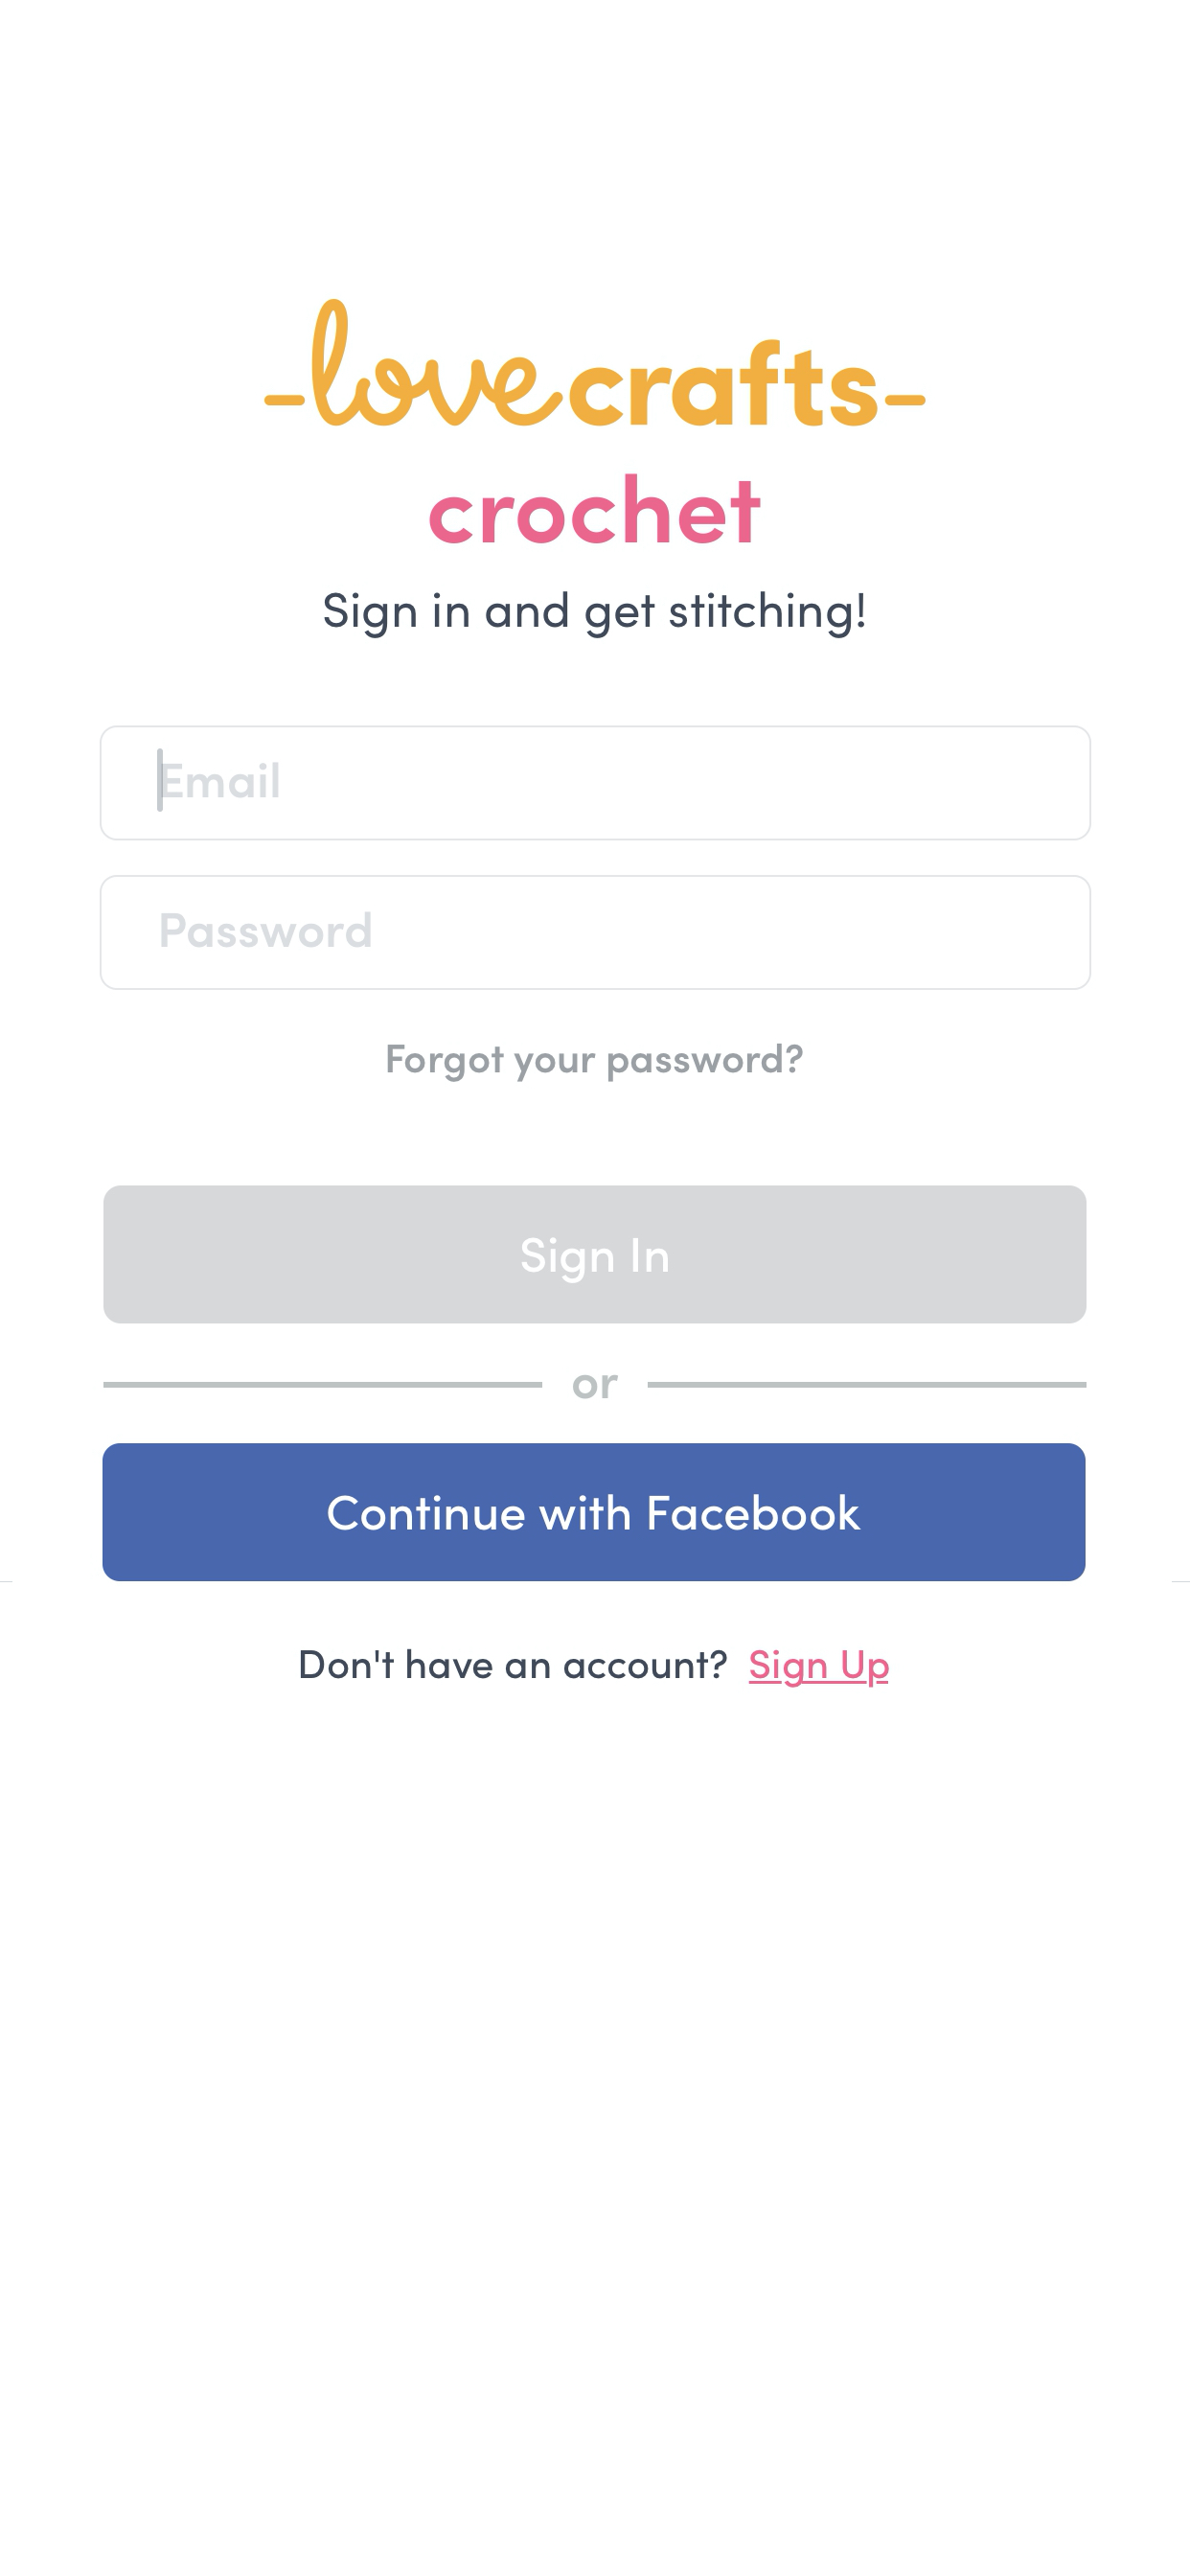EditText: (100, 876, 1091, 991), (100, 726, 1091, 841)
Image: (265, 299, 925, 427)
Text: (324, 591, 865, 637), (429, 473, 761, 544), (299, 1648, 889, 1687), (388, 1043, 802, 1083), (161, 912, 371, 948), (158, 749, 279, 812), (574, 1373, 618, 1400)
TextButton: (102, 1442, 1085, 1582), (104, 1186, 1086, 1324)
